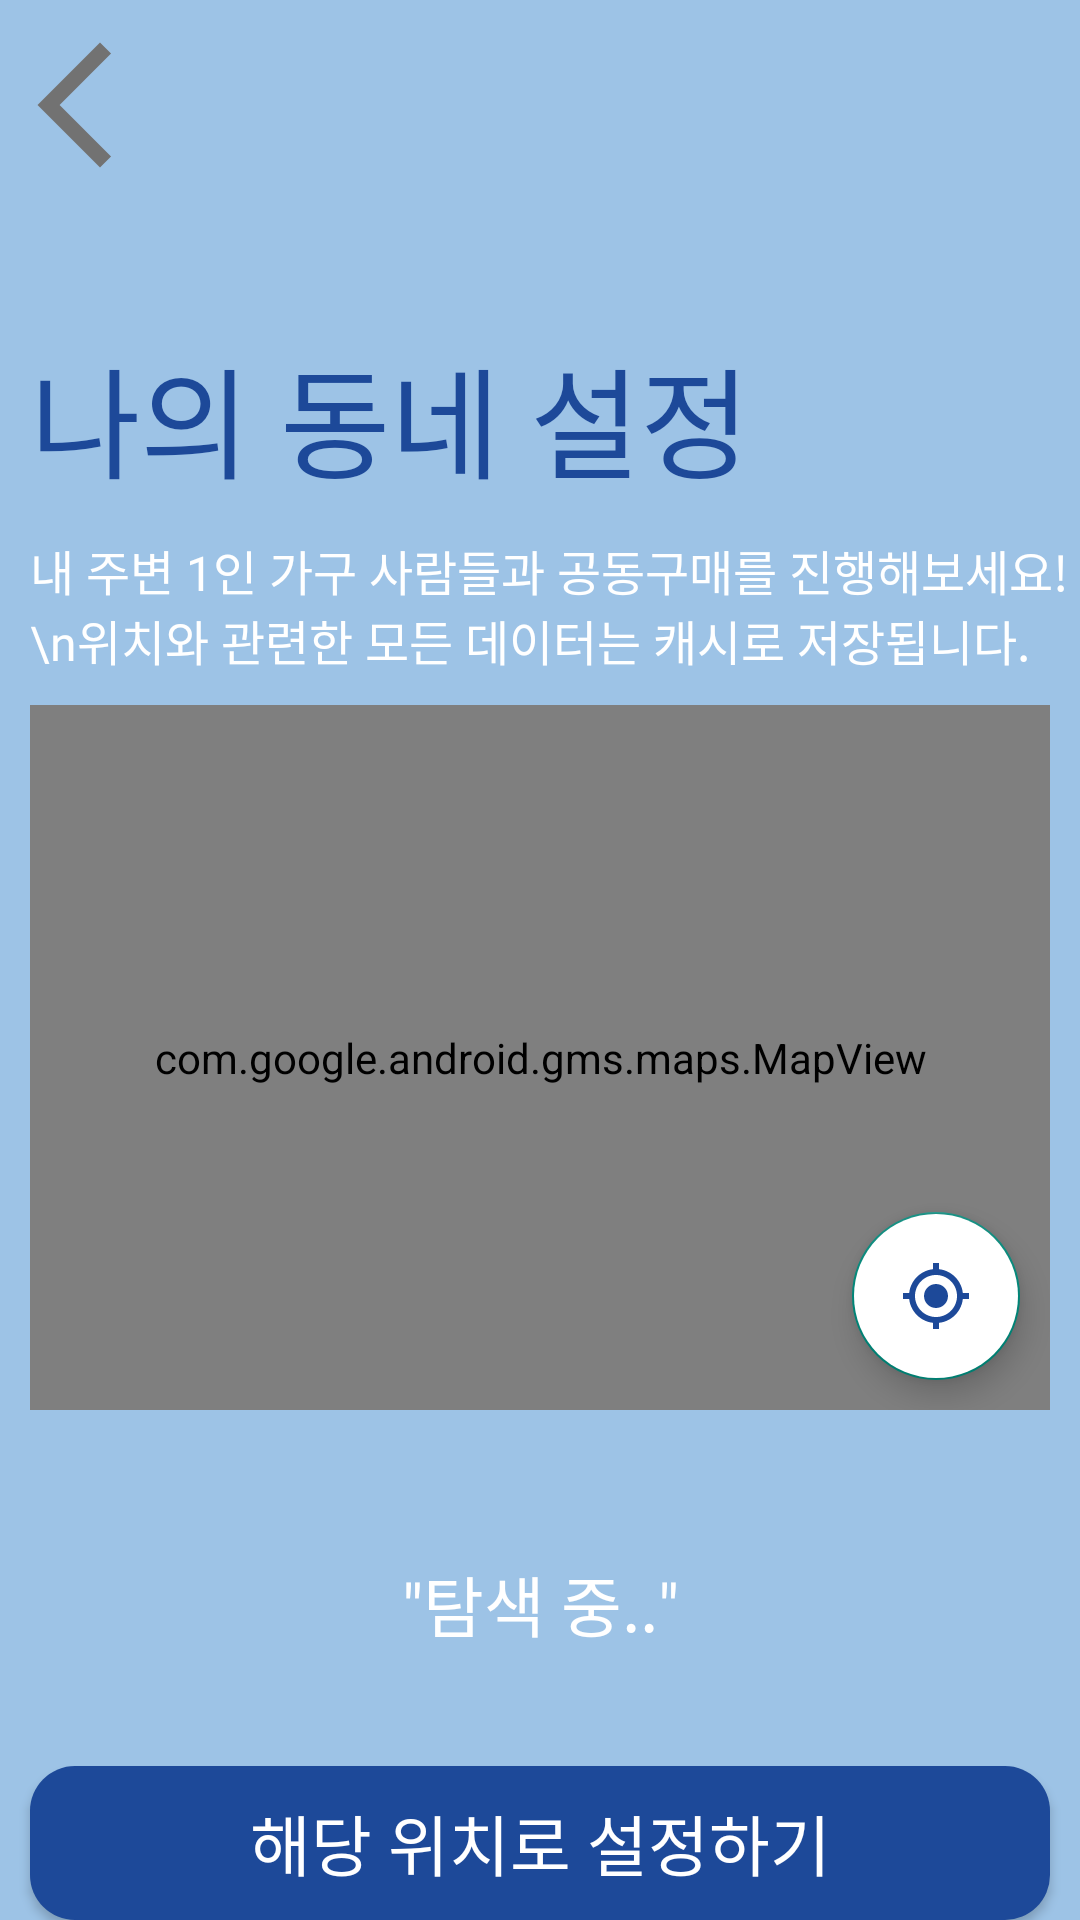

Where icons sit on this 1080*1920 app screen, as [x1, y1, x2, y2]:
arrow back: [38, 43, 111, 167]
gps fixed: [852, 1212, 1020, 1380]
